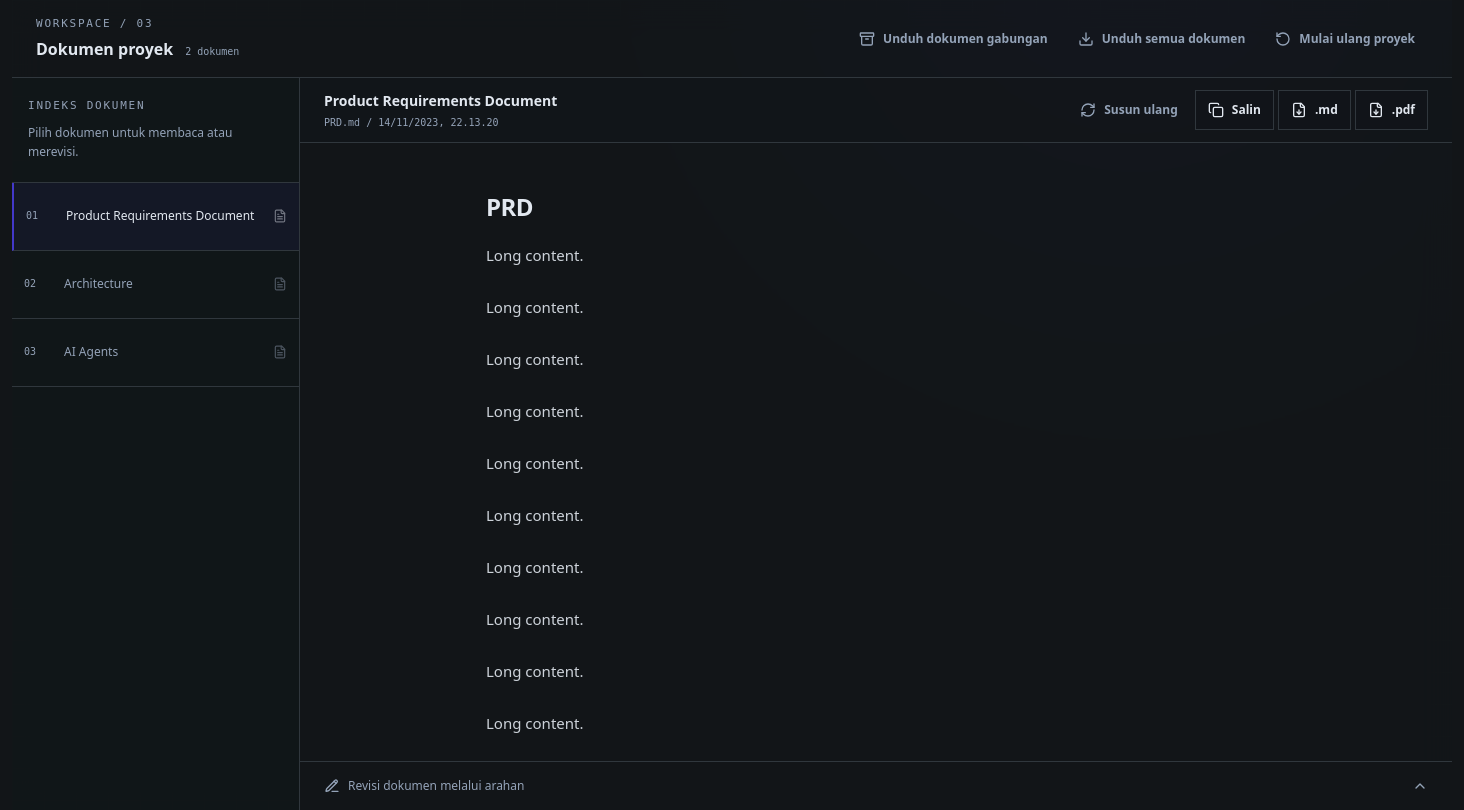
Test case: ResultsView document scrolling › copies active document content to clipboard when Salin button is clicked
This screenshot has width=1464, height=810.
Click the button with aria-label "Salin dokumen Product Requirements Document": (1234, 110) [1195,90,1274,130]
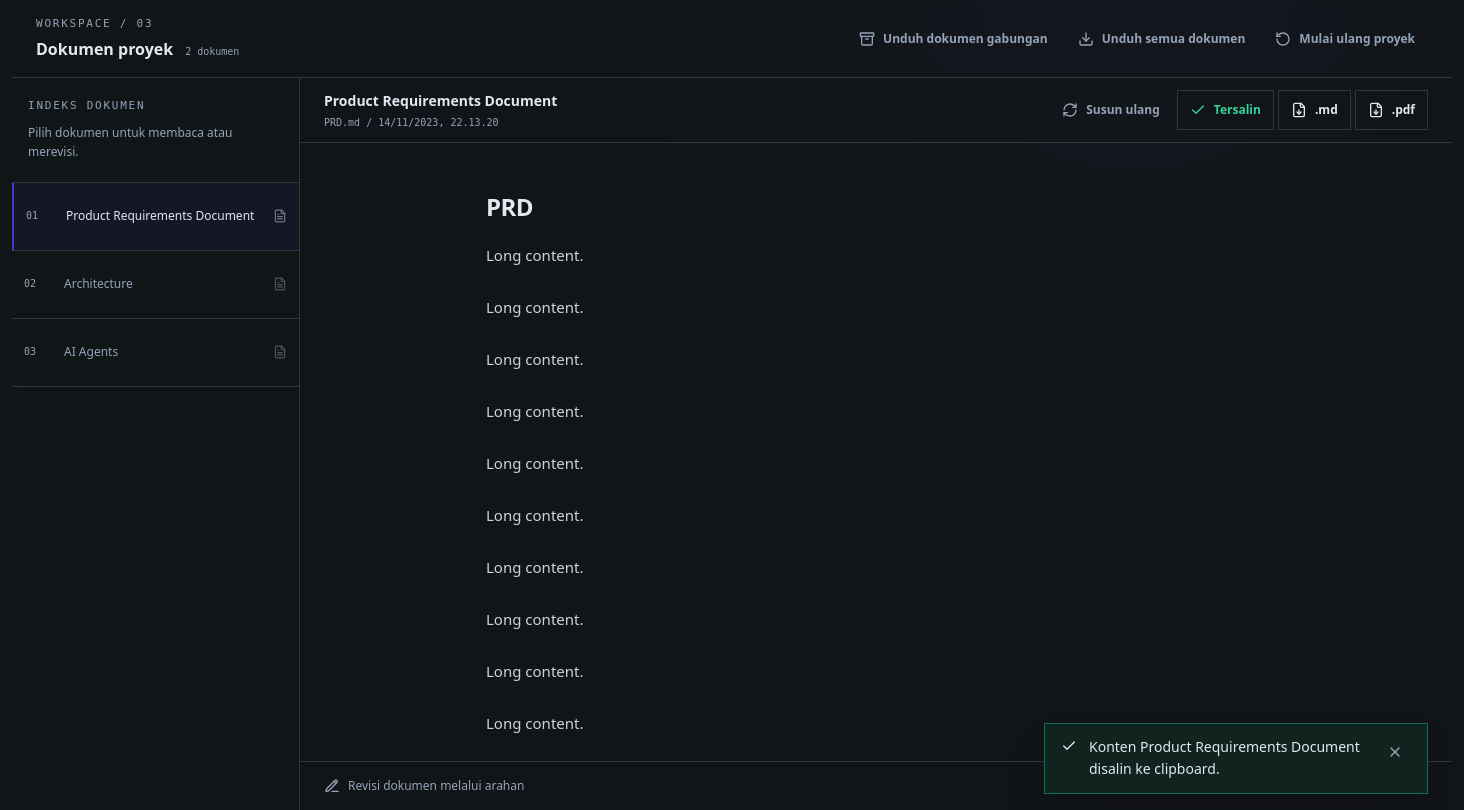
Check: the text "Tersalin" is shown, box [1214,102,1261,118]
